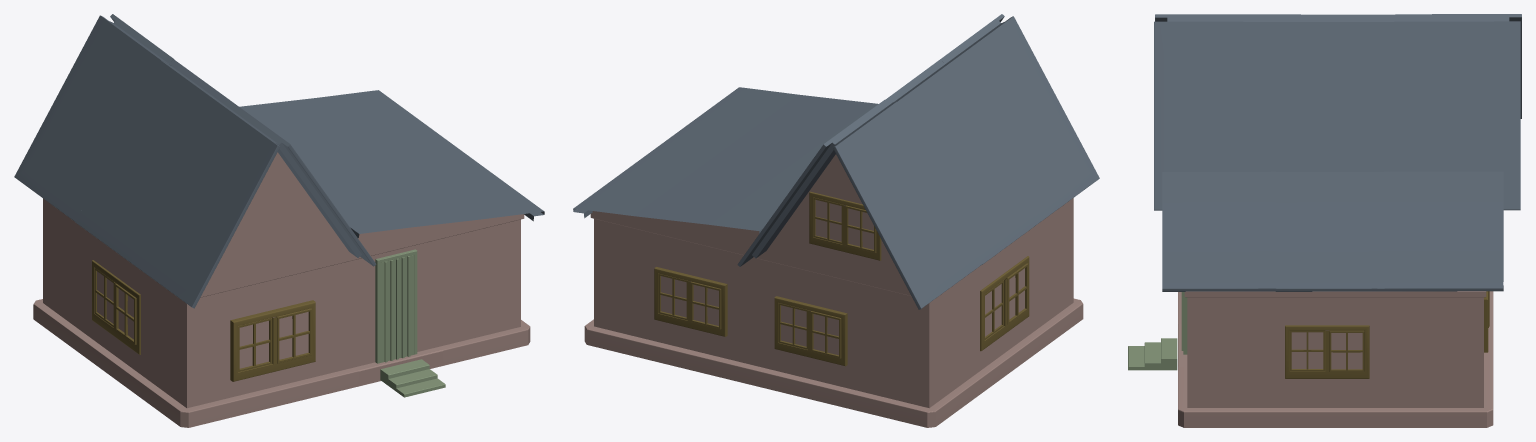
Rendered from House.fbx.
3 views of the same model, side by side, from view 1: azimuth 30°, elevation 25°; view 2: azimuth 150°, elevation 25°; view 3: azimuth 270°, elevation 25° (orthographic). The views are drawn at different scales.
Visible parts, largest first — view 1: Wall_Module3, Roof_Module7, Roof_Module6, Roof_Module, Wall_Module5, Wall_Module4, Wall_Module14, Wall_ModuleDoor1, Wall_Module12, Wall_Module13, polySurface43, polySurface45 (+16 smaller); view 2: Wall_Module12, Roof_Module6, Roof_Module7, Roof_Module, Wall_Module7, Wall_Module8, Wall_Module9, Wall_Module15, Wall_Module3, VentanaFrame (×4), Wall_Module13, polySurface45 (+14 smaller); view 3: Roof_Module9, Roof_Module11, Roof_Module10, Wall_Module7, Wall_Module5, Wall_Module6, polySurface43, polySurface35, polySurface45, polySurface44, polySurface47, polySurface41 (+11 smaller).
Boxes of the visible parts, left/top/right/bottom form: Wall_Module3: left=131, top=269, right=273, bottom=427; Roof_Module7: left=130, top=101, right=279, bottom=308; Roof_Module6: left=14, top=15, right=171, bottom=221; Roof_Module: left=75, top=61, right=219, bottom=262; Wall_Module5: left=438, top=214, right=530, bottom=365; Wall_Module4: left=269, top=255, right=358, bottom=406; Wall_Module14: left=203, top=152, right=353, bottom=291; Wall_ModuleDoor1: left=354, top=234, right=443, bottom=386; Wall_Module12: left=33, top=198, right=90, bottom=354; Wall_Module13: left=82, top=233, right=139, bottom=390; polySurface43: left=353, top=178, right=484, bottom=227; polySurface45: left=243, top=97, right=374, bottom=146; Wall_Module12: left=842, top=268, right=984, bottom=427; Roof_Module6: left=832, top=101, right=982, bottom=309; Roof_Module7: left=943, top=16, right=1099, bottom=223; Roof_Module: left=894, top=61, right=1038, bottom=264; Wall_Module7: left=584, top=213, right=676, bottom=365; Wall_Module8: left=672, top=233, right=761, bottom=386; Wall_Module9: left=757, top=254, right=846, bottom=406; Wall_Module15: left=762, top=154, right=907, bottom=289; Wall_Module3: left=1026, top=198, right=1083, bottom=354; VentanaFrame (×4): left=654, top=191, right=1029, bottom=366; Wall_Module13: left=977, top=233, right=1033, bottom=390; polySurface45: left=633, top=175, right=764, bottom=224; Roof_Module9: left=1394, top=21, right=1520, bottom=210; Roof_Module11: left=1154, top=21, right=1280, bottom=210; Roof_Module10: left=1280, top=22, right=1394, bottom=171; Wall_Module7: left=1386, top=291, right=1493, bottom=427; Wall_Module5: left=1178, top=291, right=1284, bottom=427; Wall_Module6: left=1285, top=291, right=1385, bottom=427; polySurface43: left=1162, top=202, right=1276, bottom=251; polySurface35: left=1276, top=202, right=1389, bottom=251; polySurface45: left=1389, top=202, right=1503, bottom=250; polySurface44: left=1162, top=251, right=1276, bottom=291; polySurface47: left=1389, top=251, right=1503, bottom=291; polySurface41: left=1275, top=251, right=1389, bottom=291.
Bounding box in the file's own units: 8.61 × 6.28 × 8.
